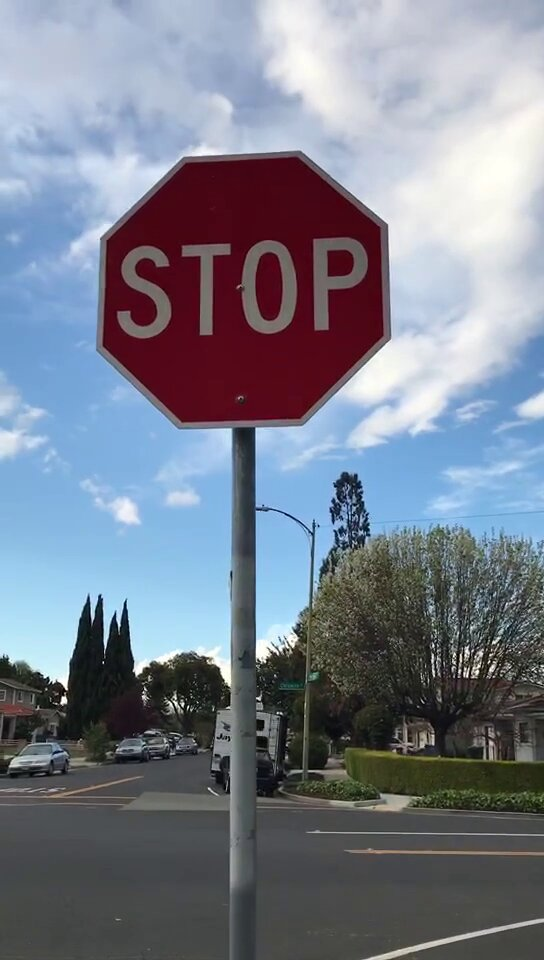stop_sign: (102, 155, 388, 427)
